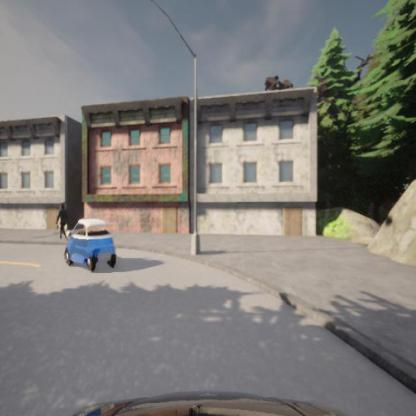person: (56, 203, 68, 240)
vehicle: (63, 217, 118, 270)
